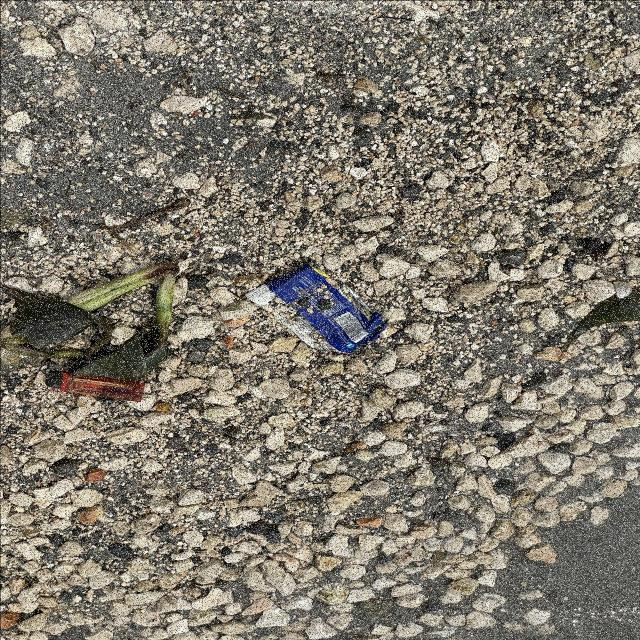plastic_waste: (245, 266, 387, 358)
